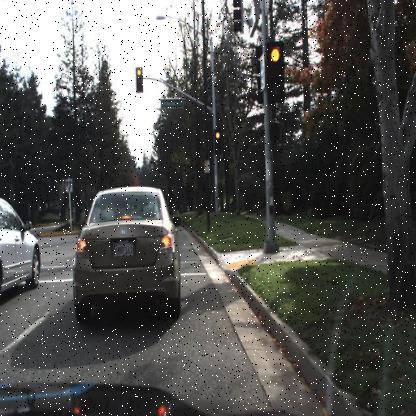car: (71, 186, 181, 327), (0, 196, 45, 302)
trafficLight-Red: (262, 42, 286, 110), (212, 129, 223, 159), (134, 67, 145, 95)
